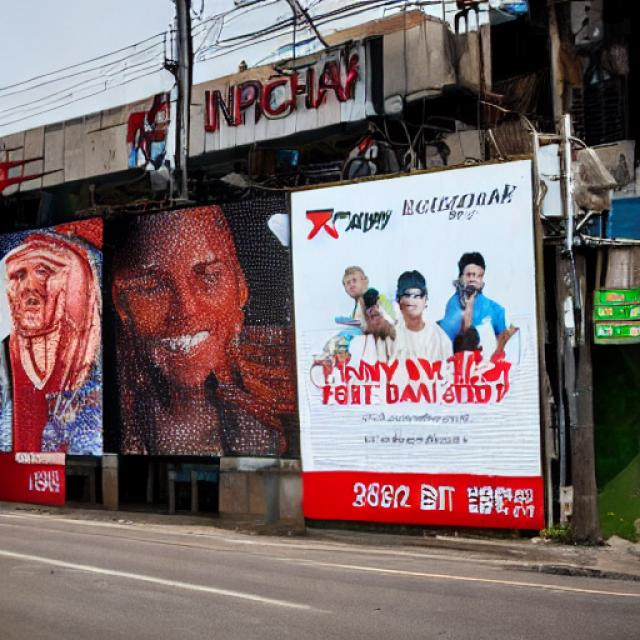Billboard: (290, 155, 552, 536), (100, 204, 286, 456), (0, 212, 101, 461)
